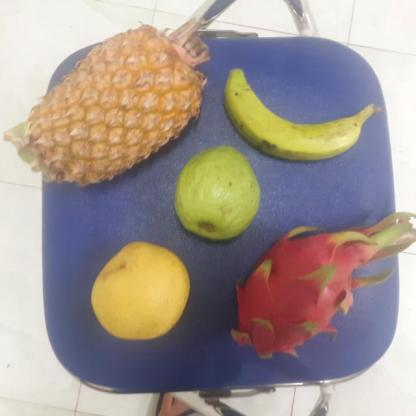banana: (217, 72, 365, 160)
guava: (169, 147, 259, 239)
pear: (87, 237, 190, 338)
pineapple: (20, 30, 196, 185)
pitaya: (235, 226, 351, 358)
